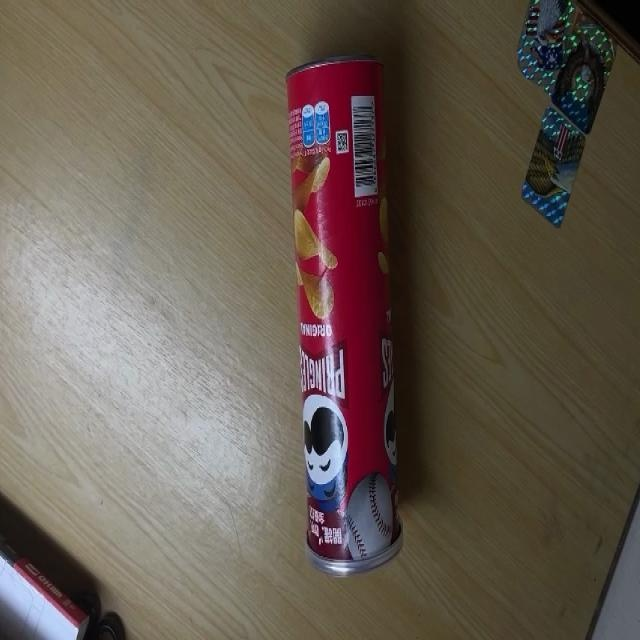Pringles: (284, 55, 405, 580)
